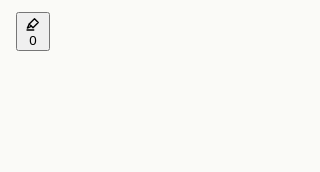
it: is closed by default and handles an empty list
Click the button "0".
click(33, 32)  # box [16, 12, 50, 51]
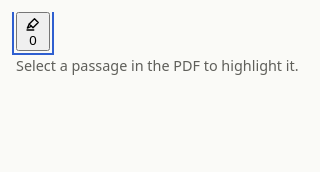
Check: the text "Select a passage in the PDF to highlight it." is shown, box [16, 56, 299, 75]
